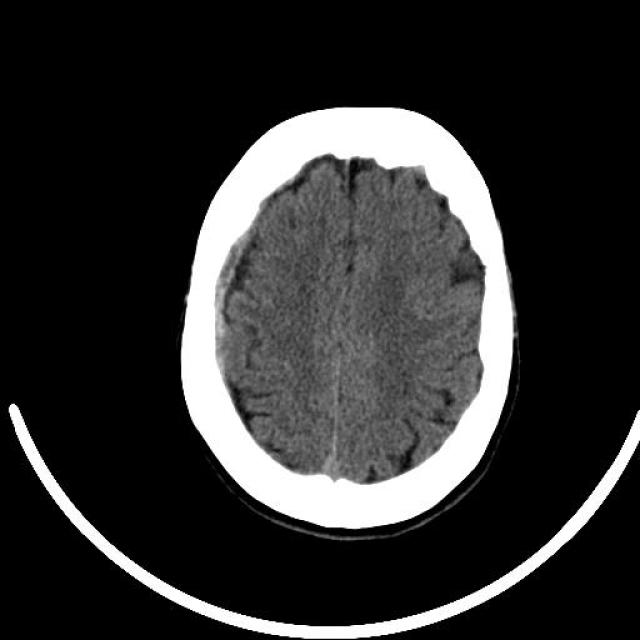Subdural: (176, 186, 289, 422)
